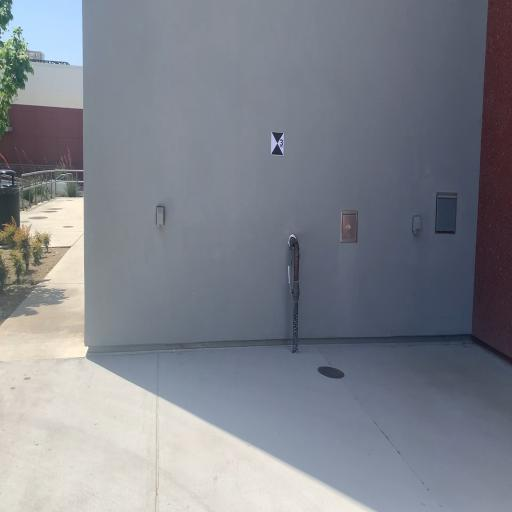target3: (271, 131, 284, 156)
